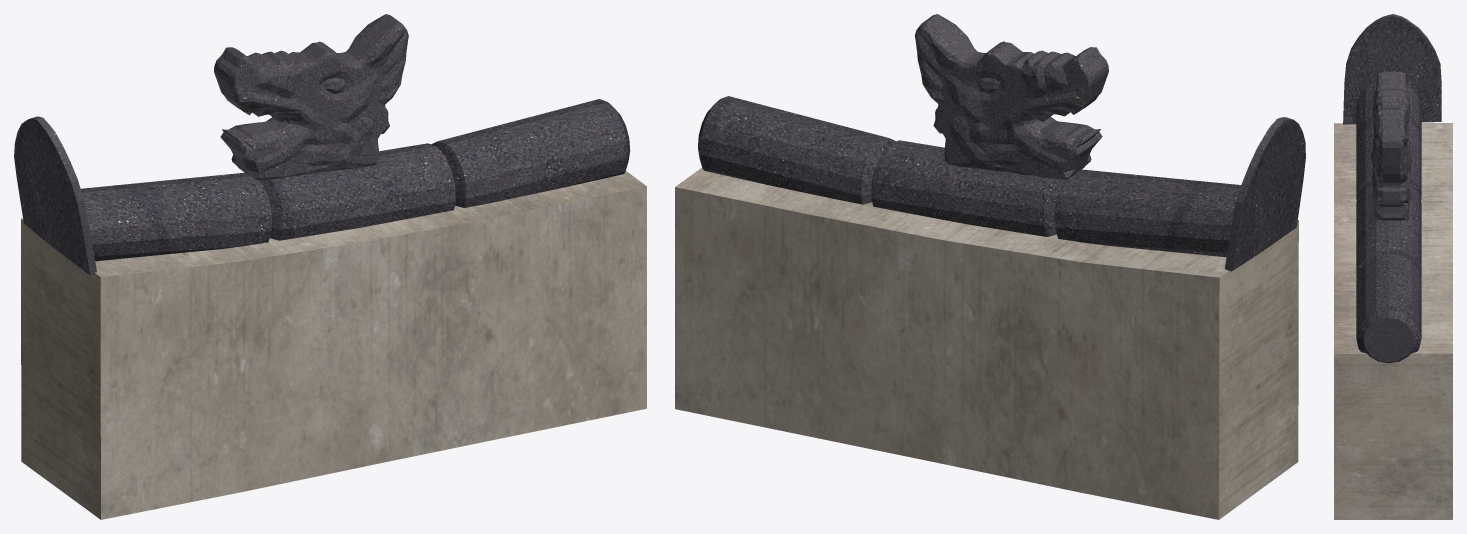
File: SM_R_CornerBeam_1.fbx
The picture shows the model from 3 angles, left to right: view 1: azimuth 30°, elevation 25°; view 2: azimuth 150°, elevation 25°; view 3: azimuth 270°, elevation 25°; orthographic projection. The views are drawn at different scales.
Parts seen in each view (by area): view 1: SM_R_CornerBeam_1; view 2: SM_R_CornerBeam_1; view 3: SM_R_CornerBeam_1.
Boxes of the visible parts, bbox=[...] form: SM_R_CornerBeam_1: bbox=[14, 14, 646, 519]; SM_R_CornerBeam_1: bbox=[675, 14, 1305, 519]; SM_R_CornerBeam_1: bbox=[1334, 14, 1452, 519].
Size of the model in its own units: 138 by 33.04 by 96.05.
2 materials, 2 textured.
